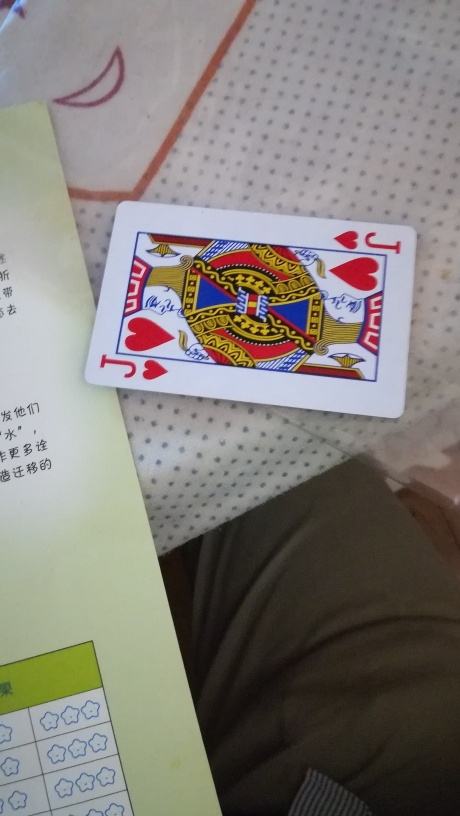hx j: (83, 196, 418, 421)
